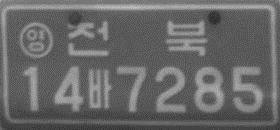1: (18, 65, 50, 111)
2: (154, 65, 187, 113)
4: (53, 63, 83, 110)
5: (231, 65, 264, 113)
7: (115, 64, 147, 113)
8: (193, 65, 225, 113)
바: (87, 68, 111, 110)
영: (18, 21, 54, 59)
전북_D: (65, 19, 208, 58)
